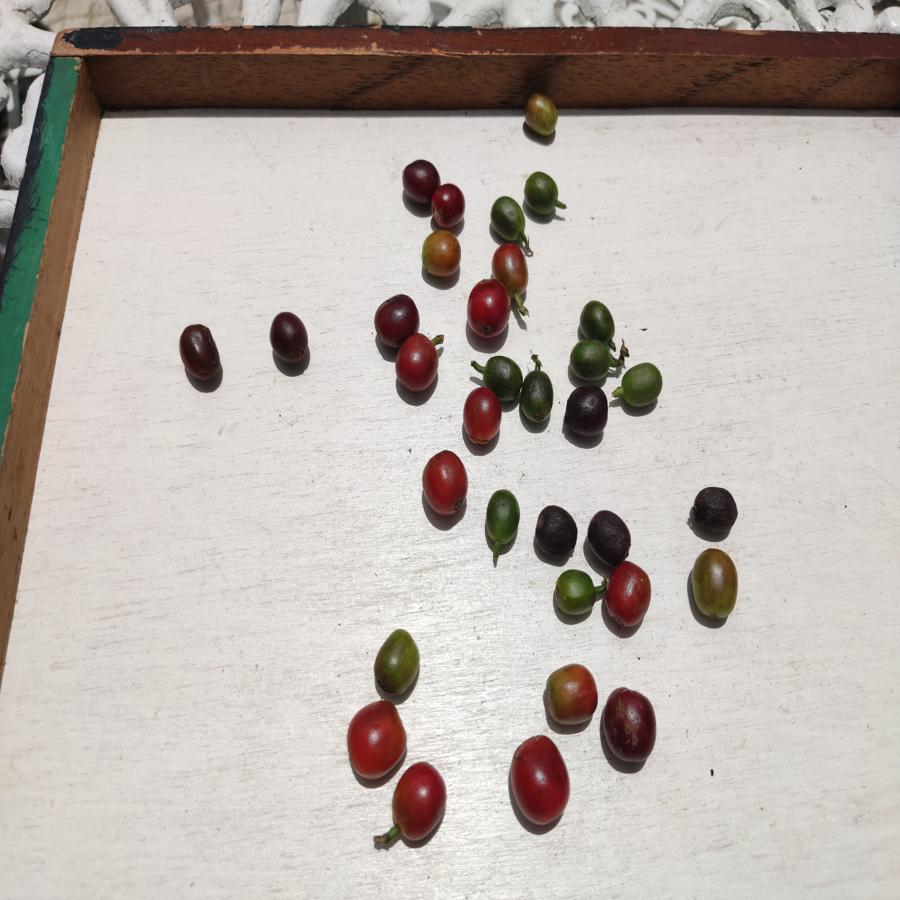Inmaduro: (552, 567, 599, 620), (485, 487, 521, 547), (618, 362, 662, 405), (570, 340, 614, 382), (576, 298, 617, 343), (483, 356, 530, 393), (522, 369, 554, 421), (491, 196, 527, 242), (522, 171, 558, 215)
Maduro: (509, 734, 572, 829), (344, 700, 408, 778), (392, 763, 448, 843), (606, 563, 655, 632), (420, 450, 469, 517), (394, 333, 443, 394), (466, 278, 508, 340), (459, 388, 502, 445)
Pinton: (688, 547, 740, 621), (543, 664, 599, 725), (374, 630, 421, 692), (418, 231, 461, 278), (490, 244, 530, 293), (522, 94, 560, 141)
Sobremaduro: (602, 685, 655, 767), (177, 323, 225, 384), (690, 484, 740, 535), (566, 384, 612, 437), (535, 504, 577, 562), (586, 510, 632, 560), (268, 312, 310, 362), (371, 293, 420, 333), (429, 184, 469, 231), (403, 157, 438, 206)
